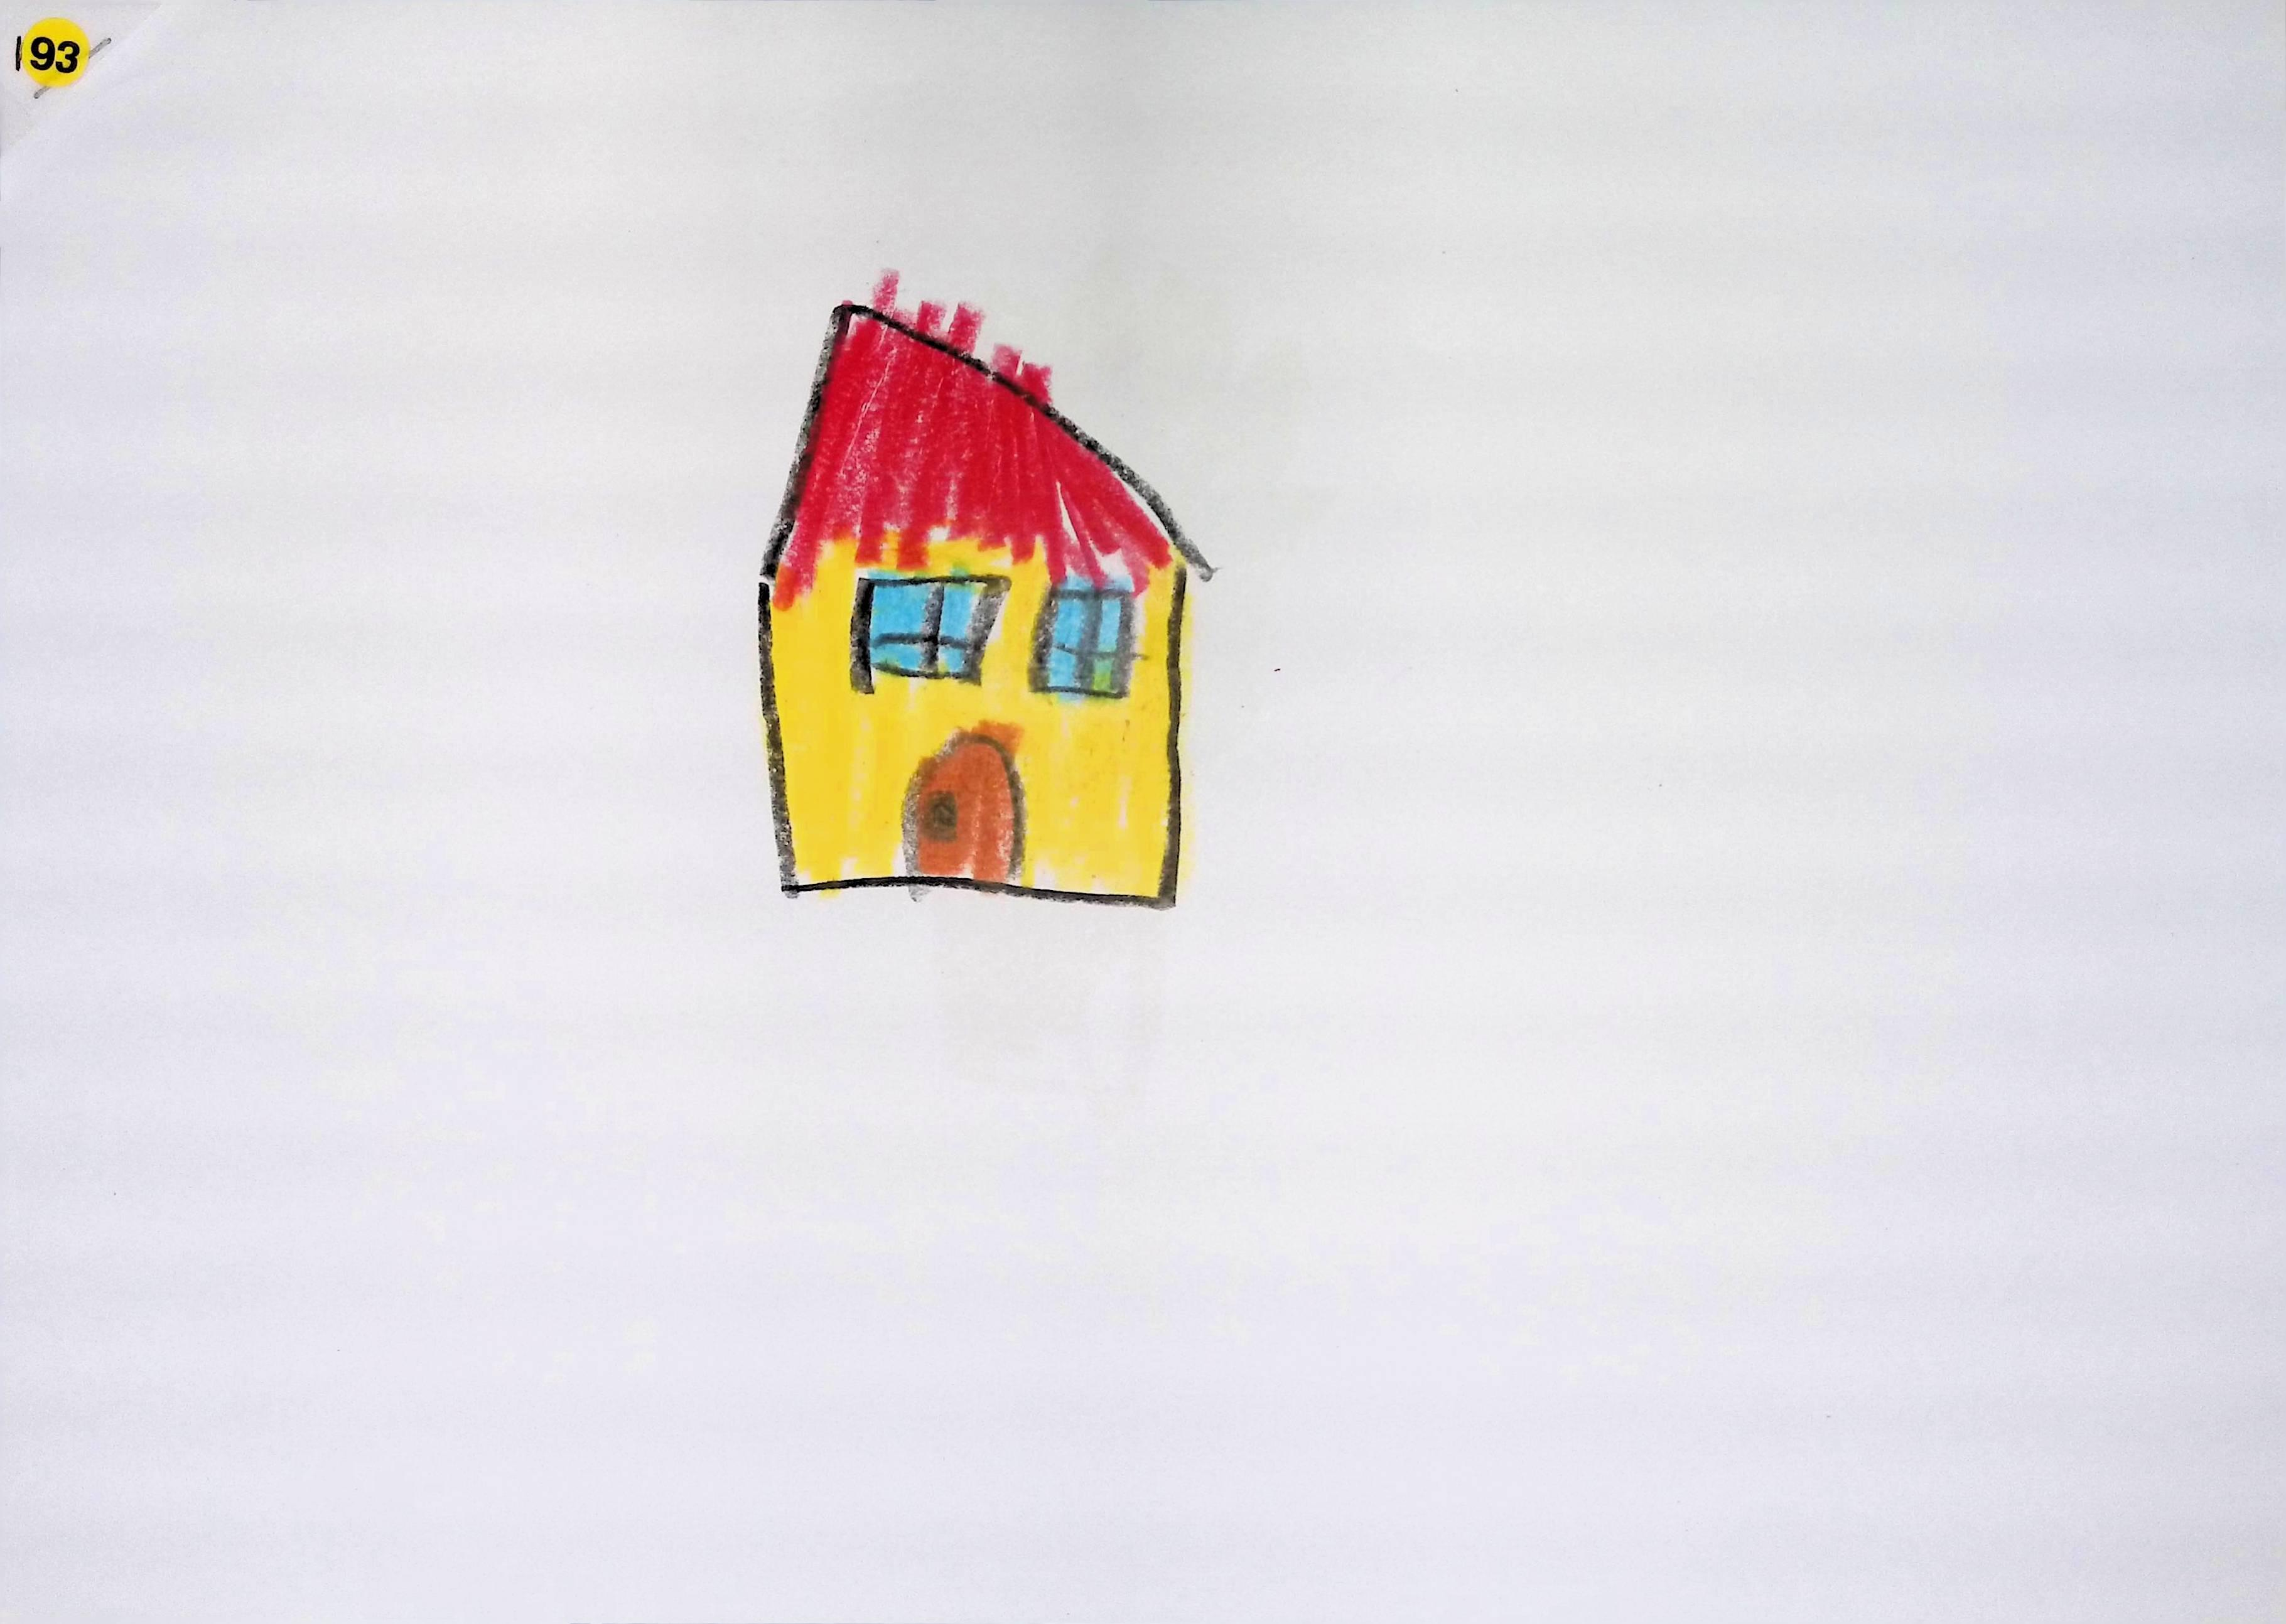door: (759, 306, 1211, 905), (903, 731, 1023, 884)
roof: (761, 297, 1198, 573)
wall: (747, 541, 1221, 921)
window: (852, 576, 1007, 691), (1033, 576, 1133, 696)
